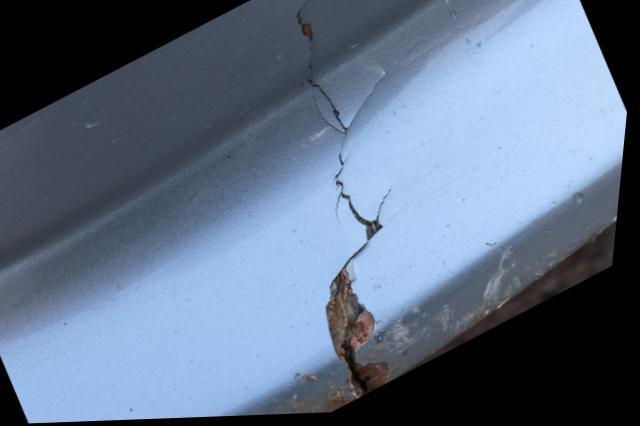crack: (297, 0, 420, 401)
scratch: (382, 183, 625, 359), (242, 371, 362, 418)
